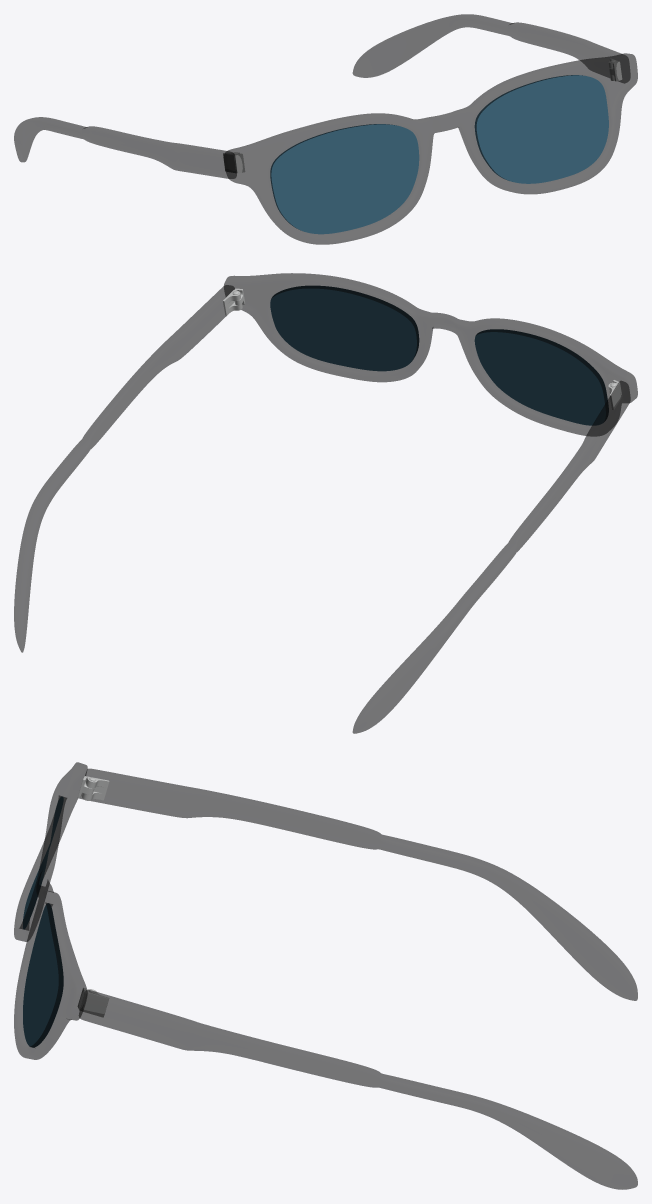
3 renders of one model, top to bottom at view 1: azimuth 30°, elevation 25°; view 2: azimuth 150°, elevation 25°; view 3: azimuth 270°, elevation 25°, orthographic. The views are drawn at different scales.
Visible parts, largest first — view 1: sklo, rámečky, nožičky_prava, nožičky_1 leva; view 2: sklo, rámečky, nožičky_1 leva, nožičky_prava; view 3: nožičky_1 leva, nožičky_prava, rámečky, sklo.
Boxes of the visible parts, bbox=[...] form: sklo: bbox=[270, 75, 608, 234]; rámečky: bbox=[223, 53, 637, 244]; nožičky_prava: bbox=[352, 14, 630, 83]; nožičky_1 leva: bbox=[14, 117, 236, 178]; sklo: bbox=[270, 285, 608, 425]; rámečky: bbox=[224, 273, 637, 436]; nožičky_1 leva: bbox=[352, 380, 630, 733]; nožičky_prava: bbox=[14, 285, 234, 652]; nožičky_1 leva: bbox=[80, 768, 637, 1000]; nožičky_prava: bbox=[79, 989, 637, 1189]; rámečky: bbox=[14, 762, 87, 1059]; sklo: bbox=[23, 796, 63, 1047].
Size of the model in its own units: 0.0545 by 0.0245 by 0.0584.
4 materials, 1 textured.
